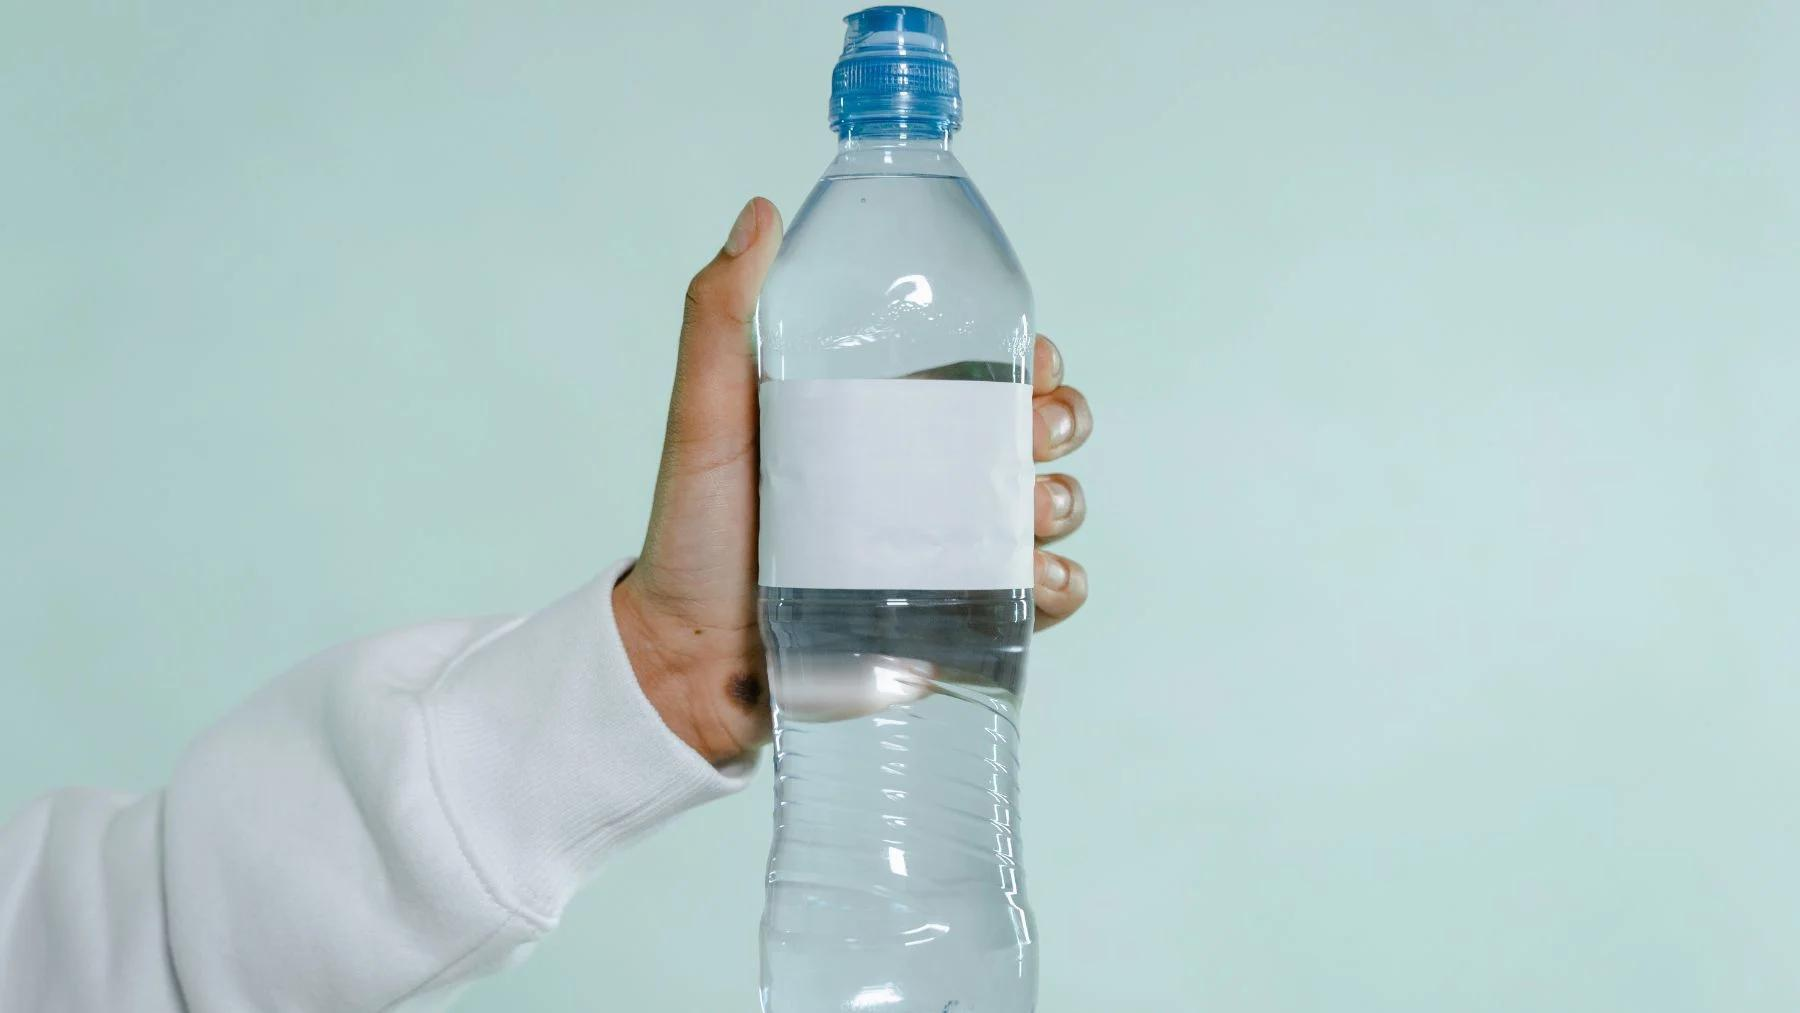paper: (754, 5, 1036, 1013)
